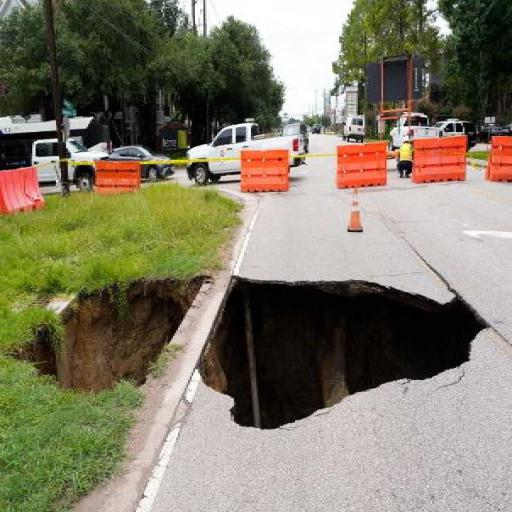Concentric_Crack: (201, 160, 512, 464), (23, 279, 208, 391)
